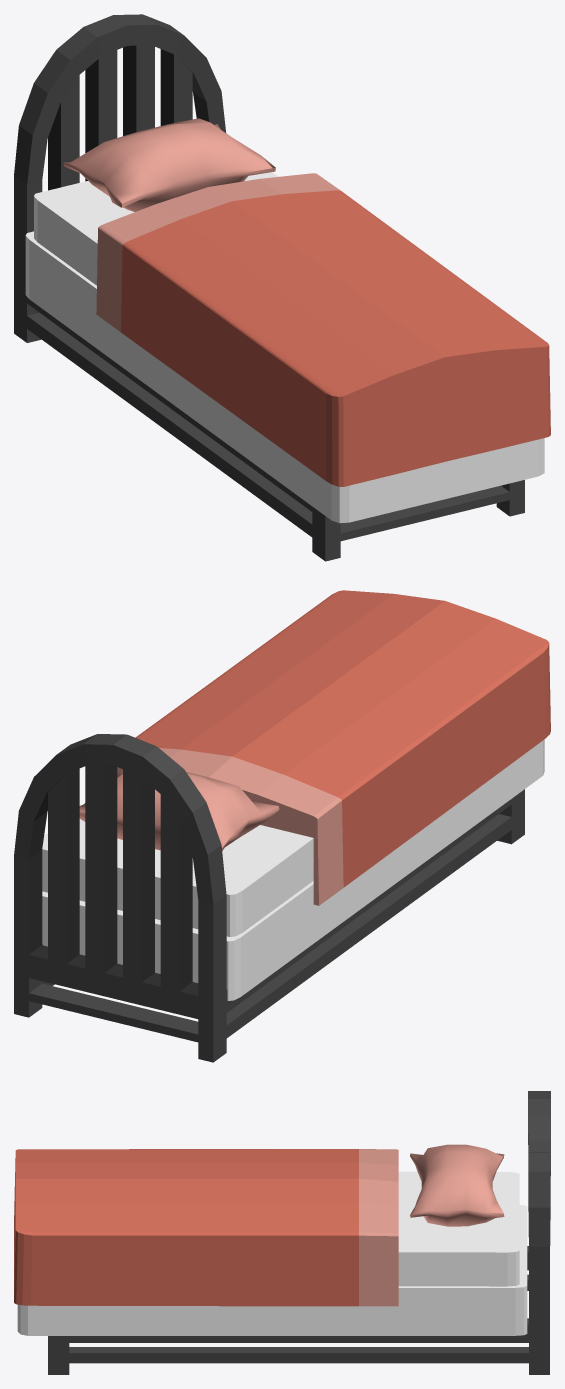
File: Lv1Bed.fbx
3 views of the same model, one above another, from view 1: azimuth 30°, elevation 25°; view 2: azimuth 150°, elevation 25°; view 3: azimuth 270°, elevation 25° (orthographic). The views are drawn at different scales.
Visible parts, largest first — view 1: Lv1 bed; view 2: Lv1 bed; view 3: Lv1 bed.
Boxes of the visible parts, x1,y1,x2,y2 form: Lv1 bed: [14, 14, 550, 561]; Lv1 bed: [14, 590, 550, 1062]; Lv1 bed: [14, 1091, 550, 1374].
Bounding box in the file's own units: 70.59 × 89.02 × 183.
